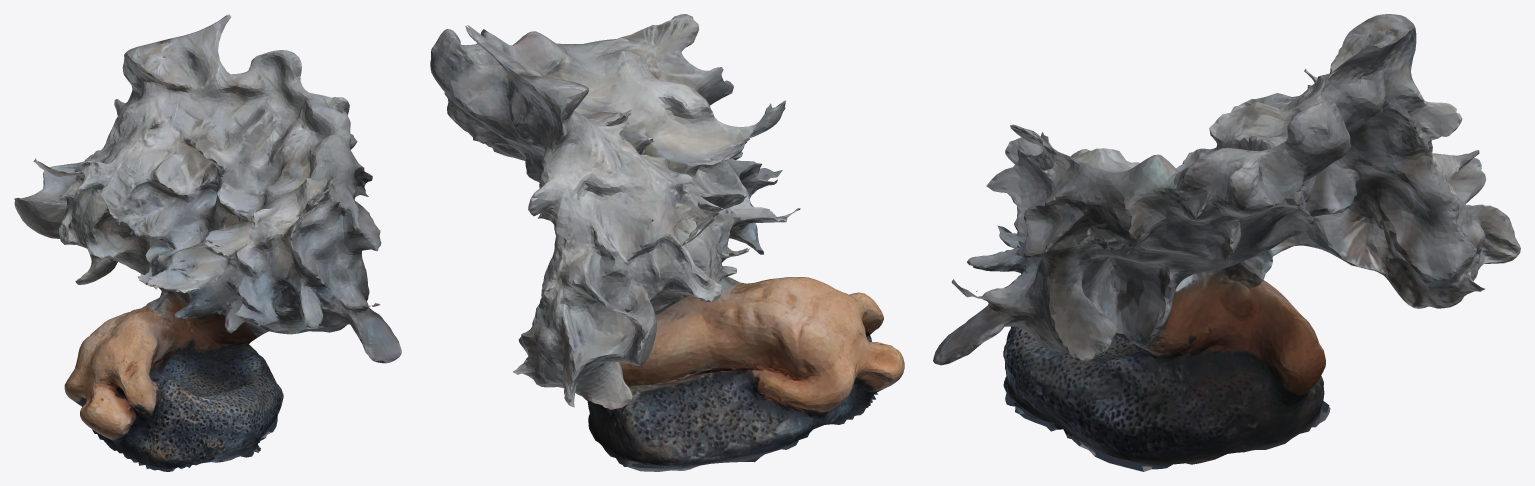
The picture shows the model from 3 angles, left to right: view 1: azimuth 30°, elevation 25°; view 2: azimuth 150°, elevation 25°; view 3: azimuth 270°, elevation 25°; orthographic projection. The views are drawn at different scales.
Visible parts, largest first — view 1: Mesh_0.001; view 2: Mesh_0.001; view 3: Mesh_0.001.
Part boxes in pixels (<box>): Mesh_0.001: <box>14,14,401,471</box>; Mesh_0.001: <box>430,14,904,471</box>; Mesh_0.001: <box>933,14,1520,471</box>.
Size of the model in its own units: 0.5619 by 0.5717 by 0.6738.
2 materials, 1 textured.
